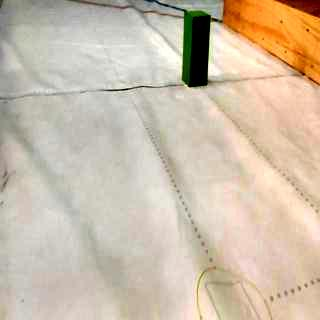greenbox: (181, 10, 211, 86)
